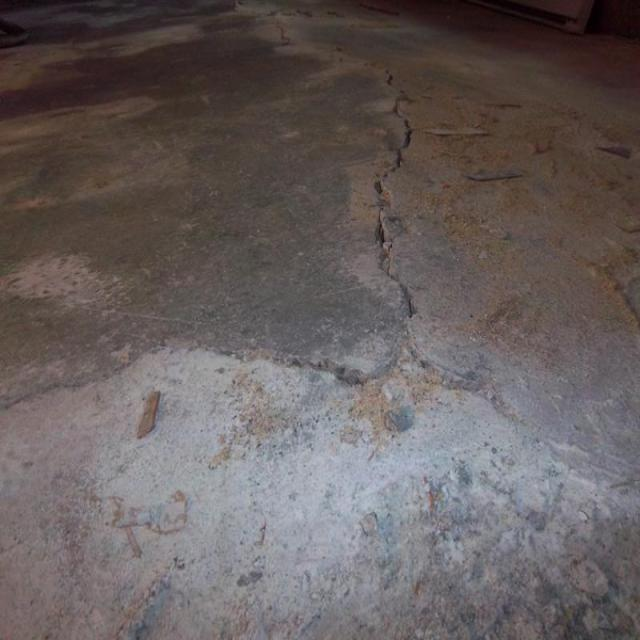crack: (201, 323, 522, 421), (10, 338, 198, 400), (374, 95, 412, 205), (378, 209, 416, 317)
